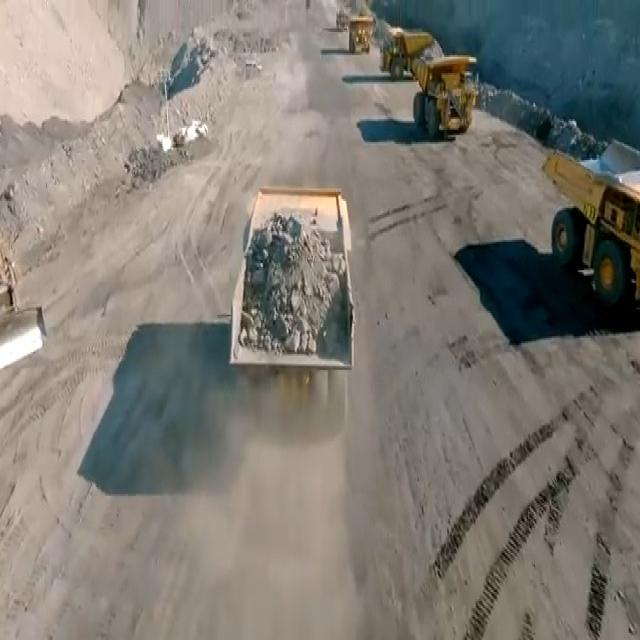dump_truck: (232, 177, 355, 438), (545, 139, 640, 311), (414, 56, 472, 139), (381, 28, 430, 67), (350, 18, 370, 55)
